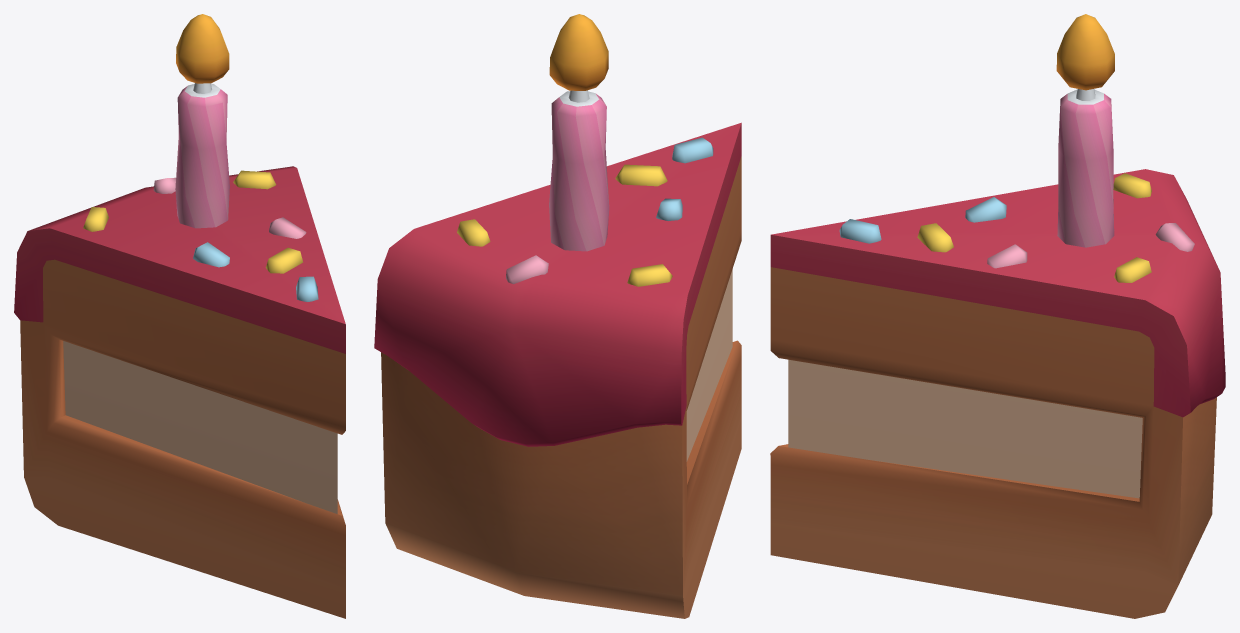
The model's file is CakeBirthdaySlice-transformed.glb.
The picture shows the model from 3 angles, left to right: view 1: azimuth 30°, elevation 25°; view 2: azimuth 150°, elevation 25°; view 3: azimuth 270°, elevation 25°; orthographic projection. The views are drawn at different scales.
Parts seen in each view (by area): view 1: cake_birthday_slice; view 2: cake_birthday_slice; view 3: cake_birthday_slice.
Boxes of the visible parts, box(x1,y1,x2,y2) form: cake_birthday_slice: box(14, 14, 345, 618); cake_birthday_slice: box(374, 14, 741, 618); cake_birthday_slice: box(770, 14, 1225, 618).
Size of the model in its own units: 0.4668 by 0.8021 by 0.6102.
Materials: 1 (1 with a texture image).
